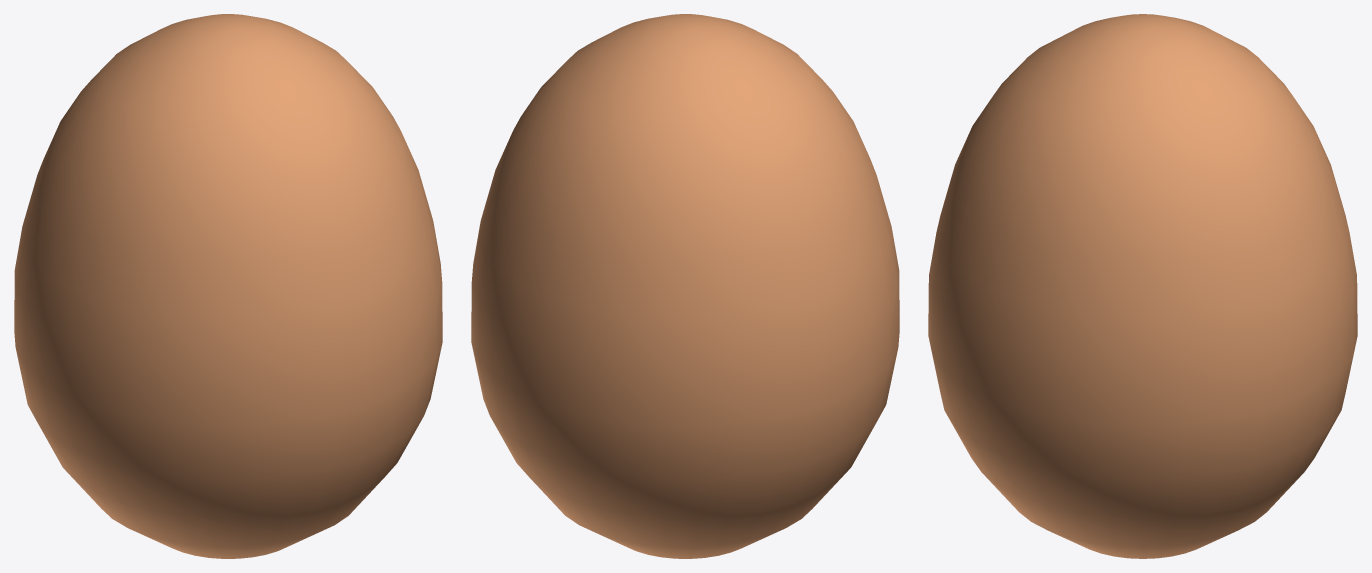
Rendered from telur.fbx.
The picture shows the model from 3 angles, left to right: view 1: azimuth 30°, elevation 25°; view 2: azimuth 150°, elevation 25°; view 3: azimuth 270°, elevation 25°; orthographic projection.
Parts seen in each view (by area): view 1: Cylinder; view 2: Cylinder; view 3: Cylinder.
Part boxes in pixels (x1,y1,x2,y2): Cylinder: (14,14,442,558); Cylinder: (471,14,899,558); Cylinder: (928,14,1357,558).
Size of the model in its own units: 108 by 142 by 108.
1 material, 1 textured.
